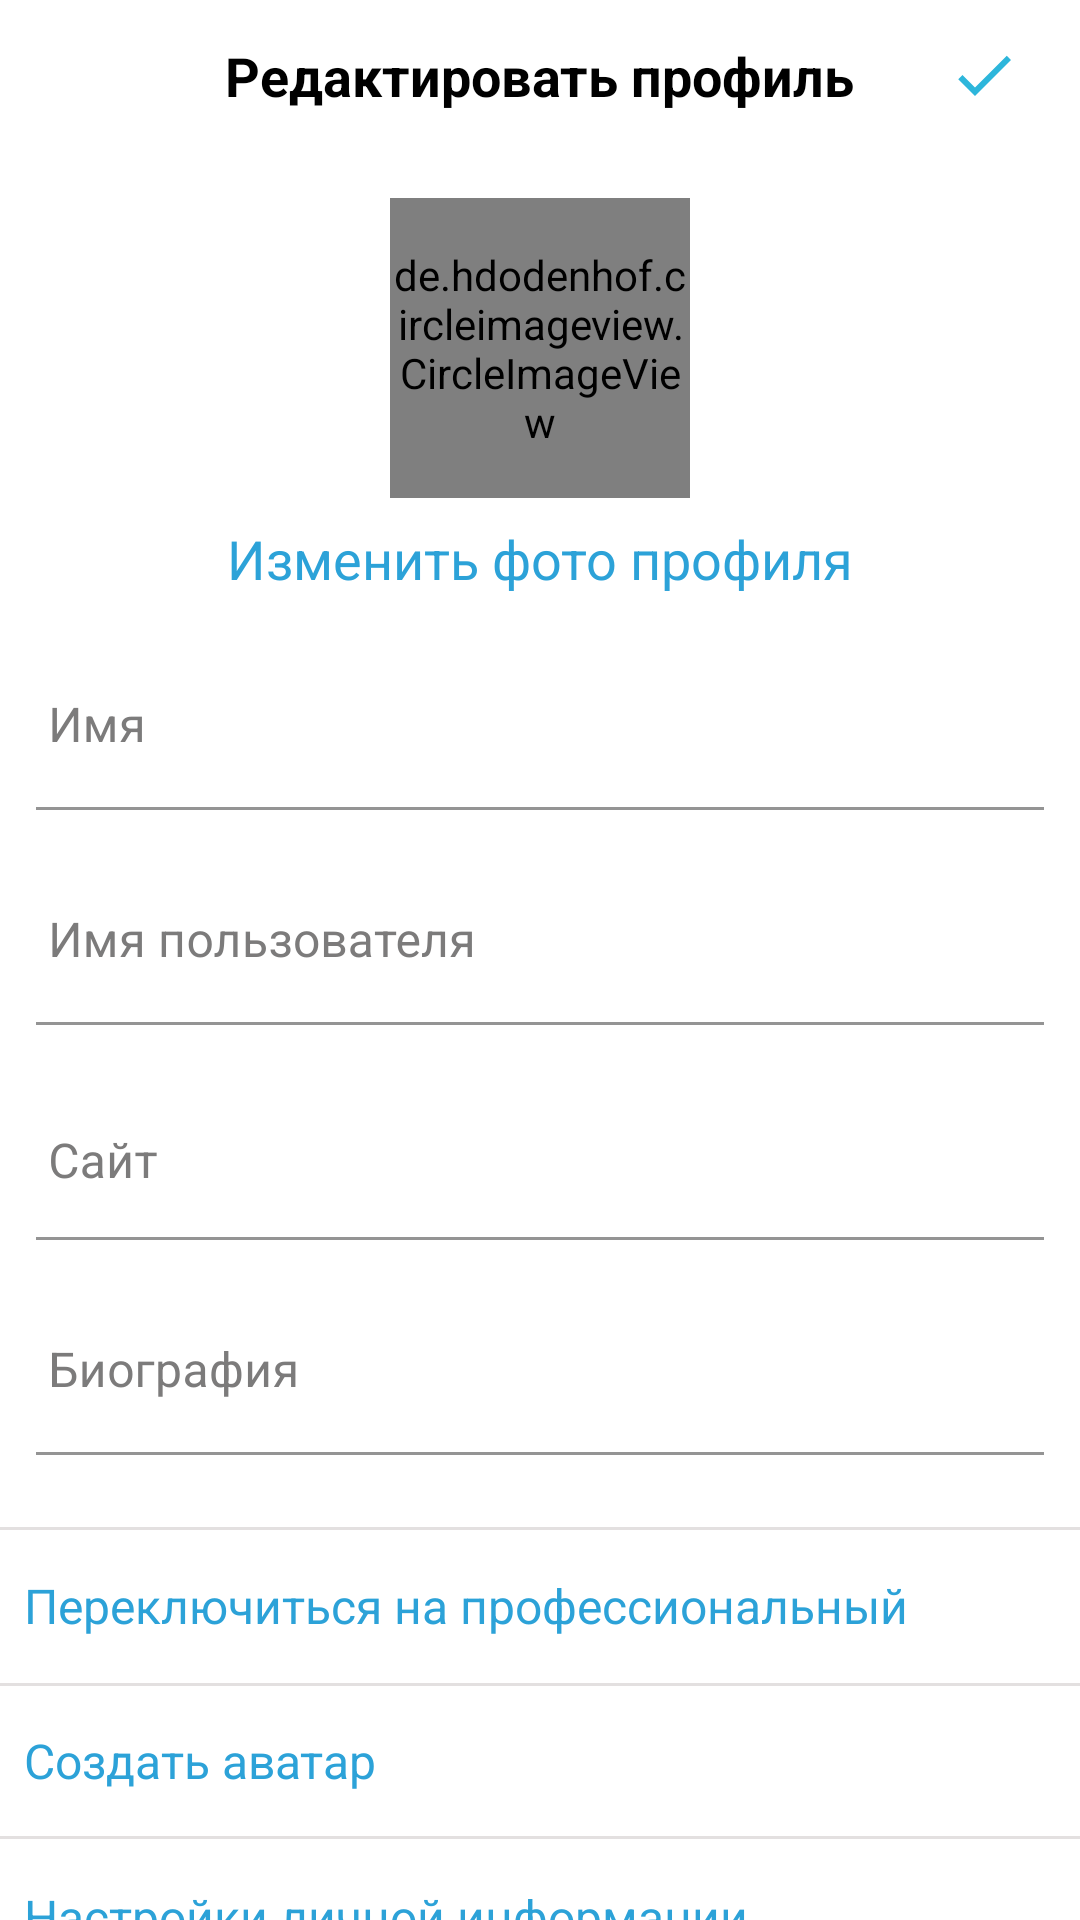

Icon bounding boxes for this 1080x1920 phone screenshot, format detection(x1, y1, x2, y2):
select: detection(958, 56, 1011, 96)
